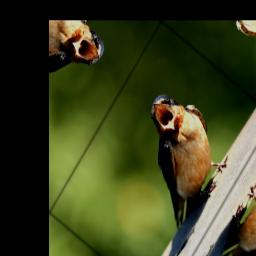Swallow: (111, 79, 242, 238)
